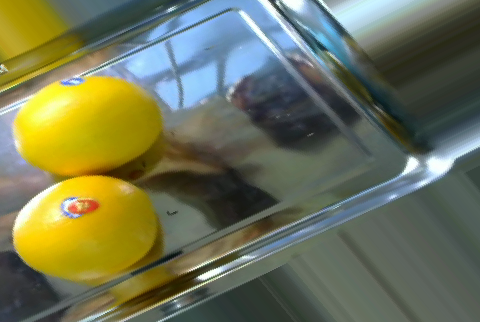Orange: (10, 175, 157, 280), (13, 74, 162, 176)
